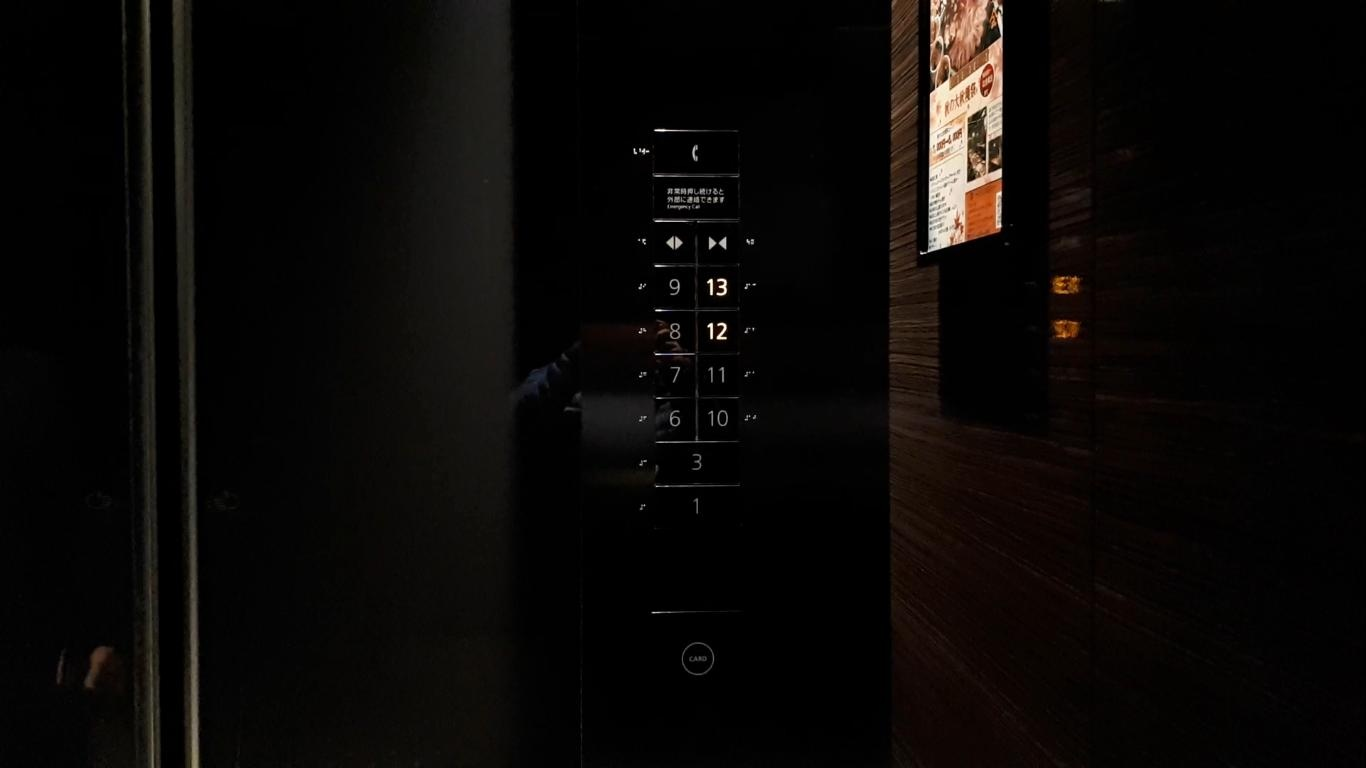1: (648, 479, 745, 529)
10: (694, 393, 744, 446)
11: (695, 348, 744, 401)
12: (695, 308, 743, 357)
13: (694, 261, 742, 313)
3: (648, 439, 745, 489)
6: (648, 394, 700, 446)
7: (647, 351, 700, 401)
8: (647, 308, 701, 357)
9: (648, 263, 698, 313)
call: (649, 127, 743, 180)
close: (695, 216, 744, 267)
open: (648, 216, 699, 266)
